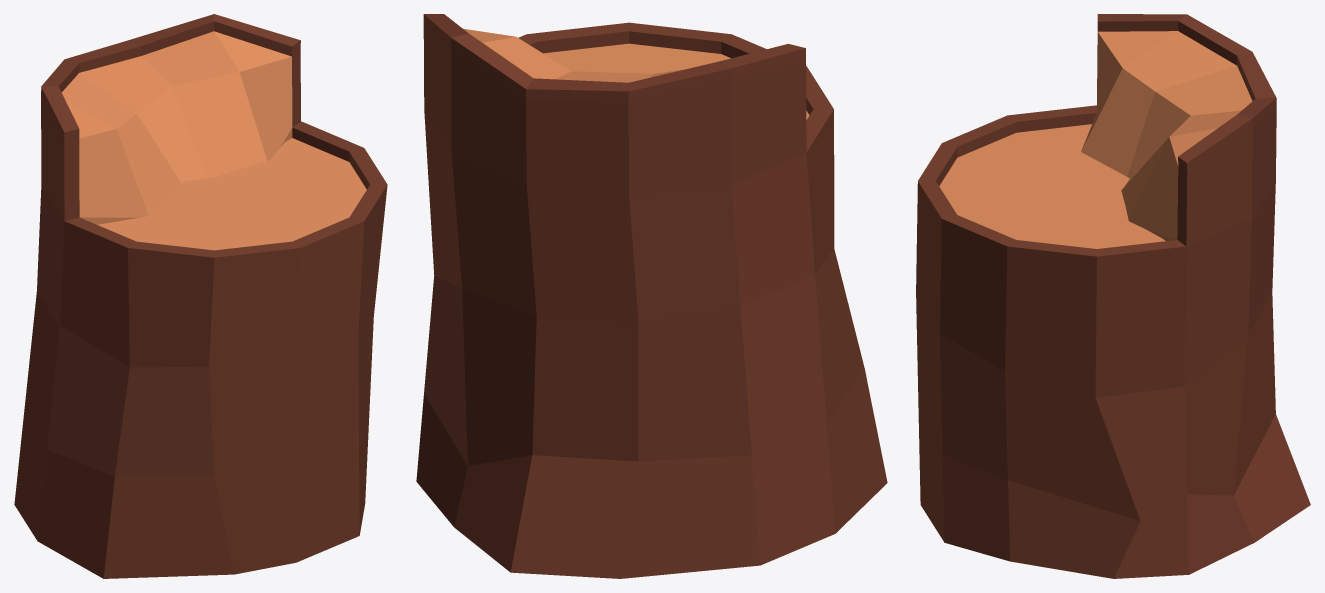
The model's file is pine_trunk_type_5_LOD0.fbx.
3 renders of one model, left to right at view 1: azimuth 30°, elevation 25°; view 2: azimuth 150°, elevation 25°; view 3: azimuth 270°, elevation 25°, orthographic. The views are drawn at different scales.
Parts seen in each view (by area): view 1: Cylinder.002; view 2: Cylinder.002; view 3: Cylinder.002.
Part boxes in pixels (left/top/right/bottom): Cylinder.002: left=14, top=14, right=387, bottom=578; Cylinder.002: left=416, top=14, right=887, bottom=578; Cylinder.002: left=916, top=14, right=1310, bottom=578.
Bounding box in the file's own units: 219 × 263 × 221.
